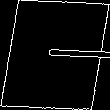L_W: (2, 37, 108, 73)
